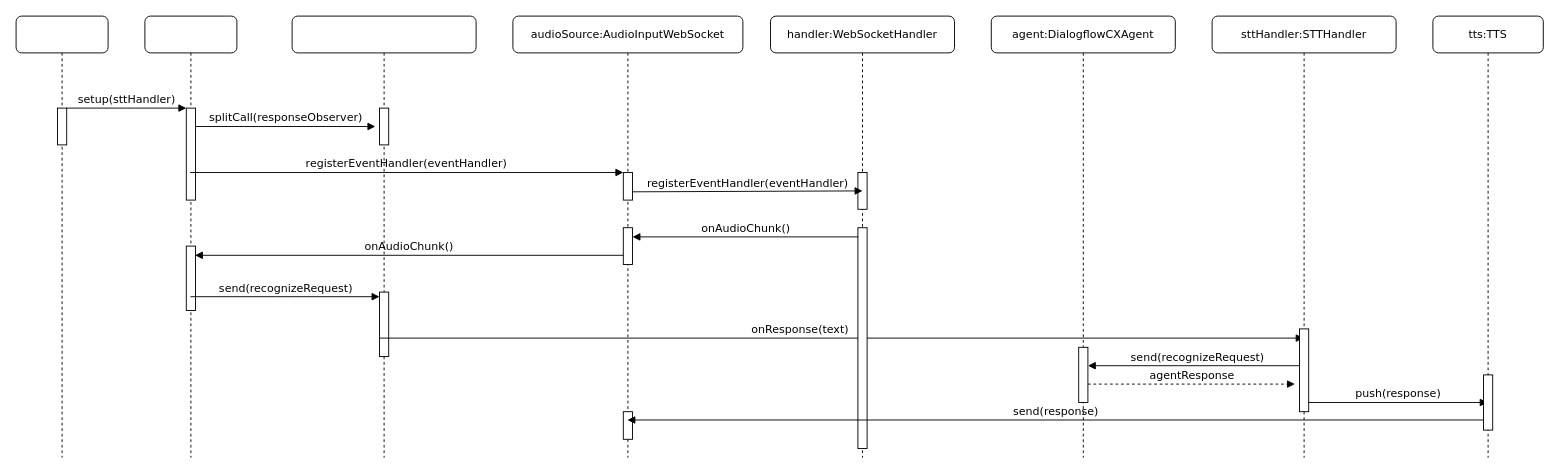
This 1559x474 diagram has some shape labels left out. The shapes that lost their labels are listed below. From the top down, each one's box as (x1, y1, x2, y2) in pixels, then its label:
(15, 15, 108, 458): Caller:caller
(144, 15, 237, 458): STT:stt
(291, 15, 476, 458): ClientStream:clientstream
